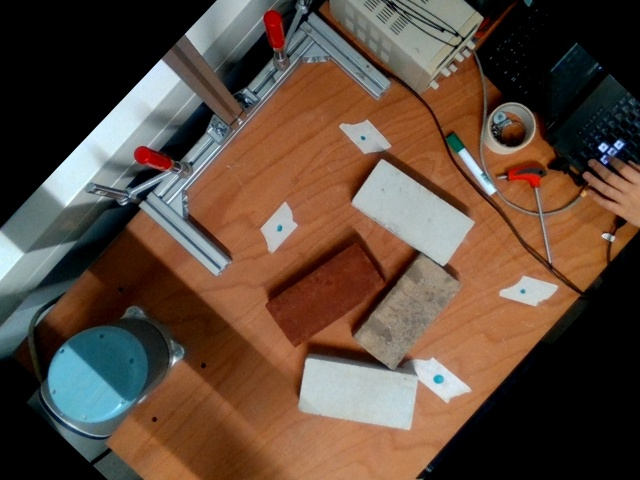brick: (354, 159, 475, 267), (354, 253, 464, 371), (266, 242, 386, 347), (300, 360, 416, 430)
